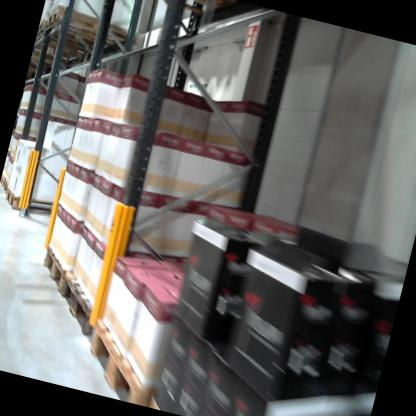pallet: (75, 315, 171, 408), (46, 266, 105, 340), (45, 0, 130, 50), (109, 0, 234, 29), (36, 18, 112, 58), (33, 241, 77, 301), (1, 184, 63, 223), (0, 176, 12, 198)
